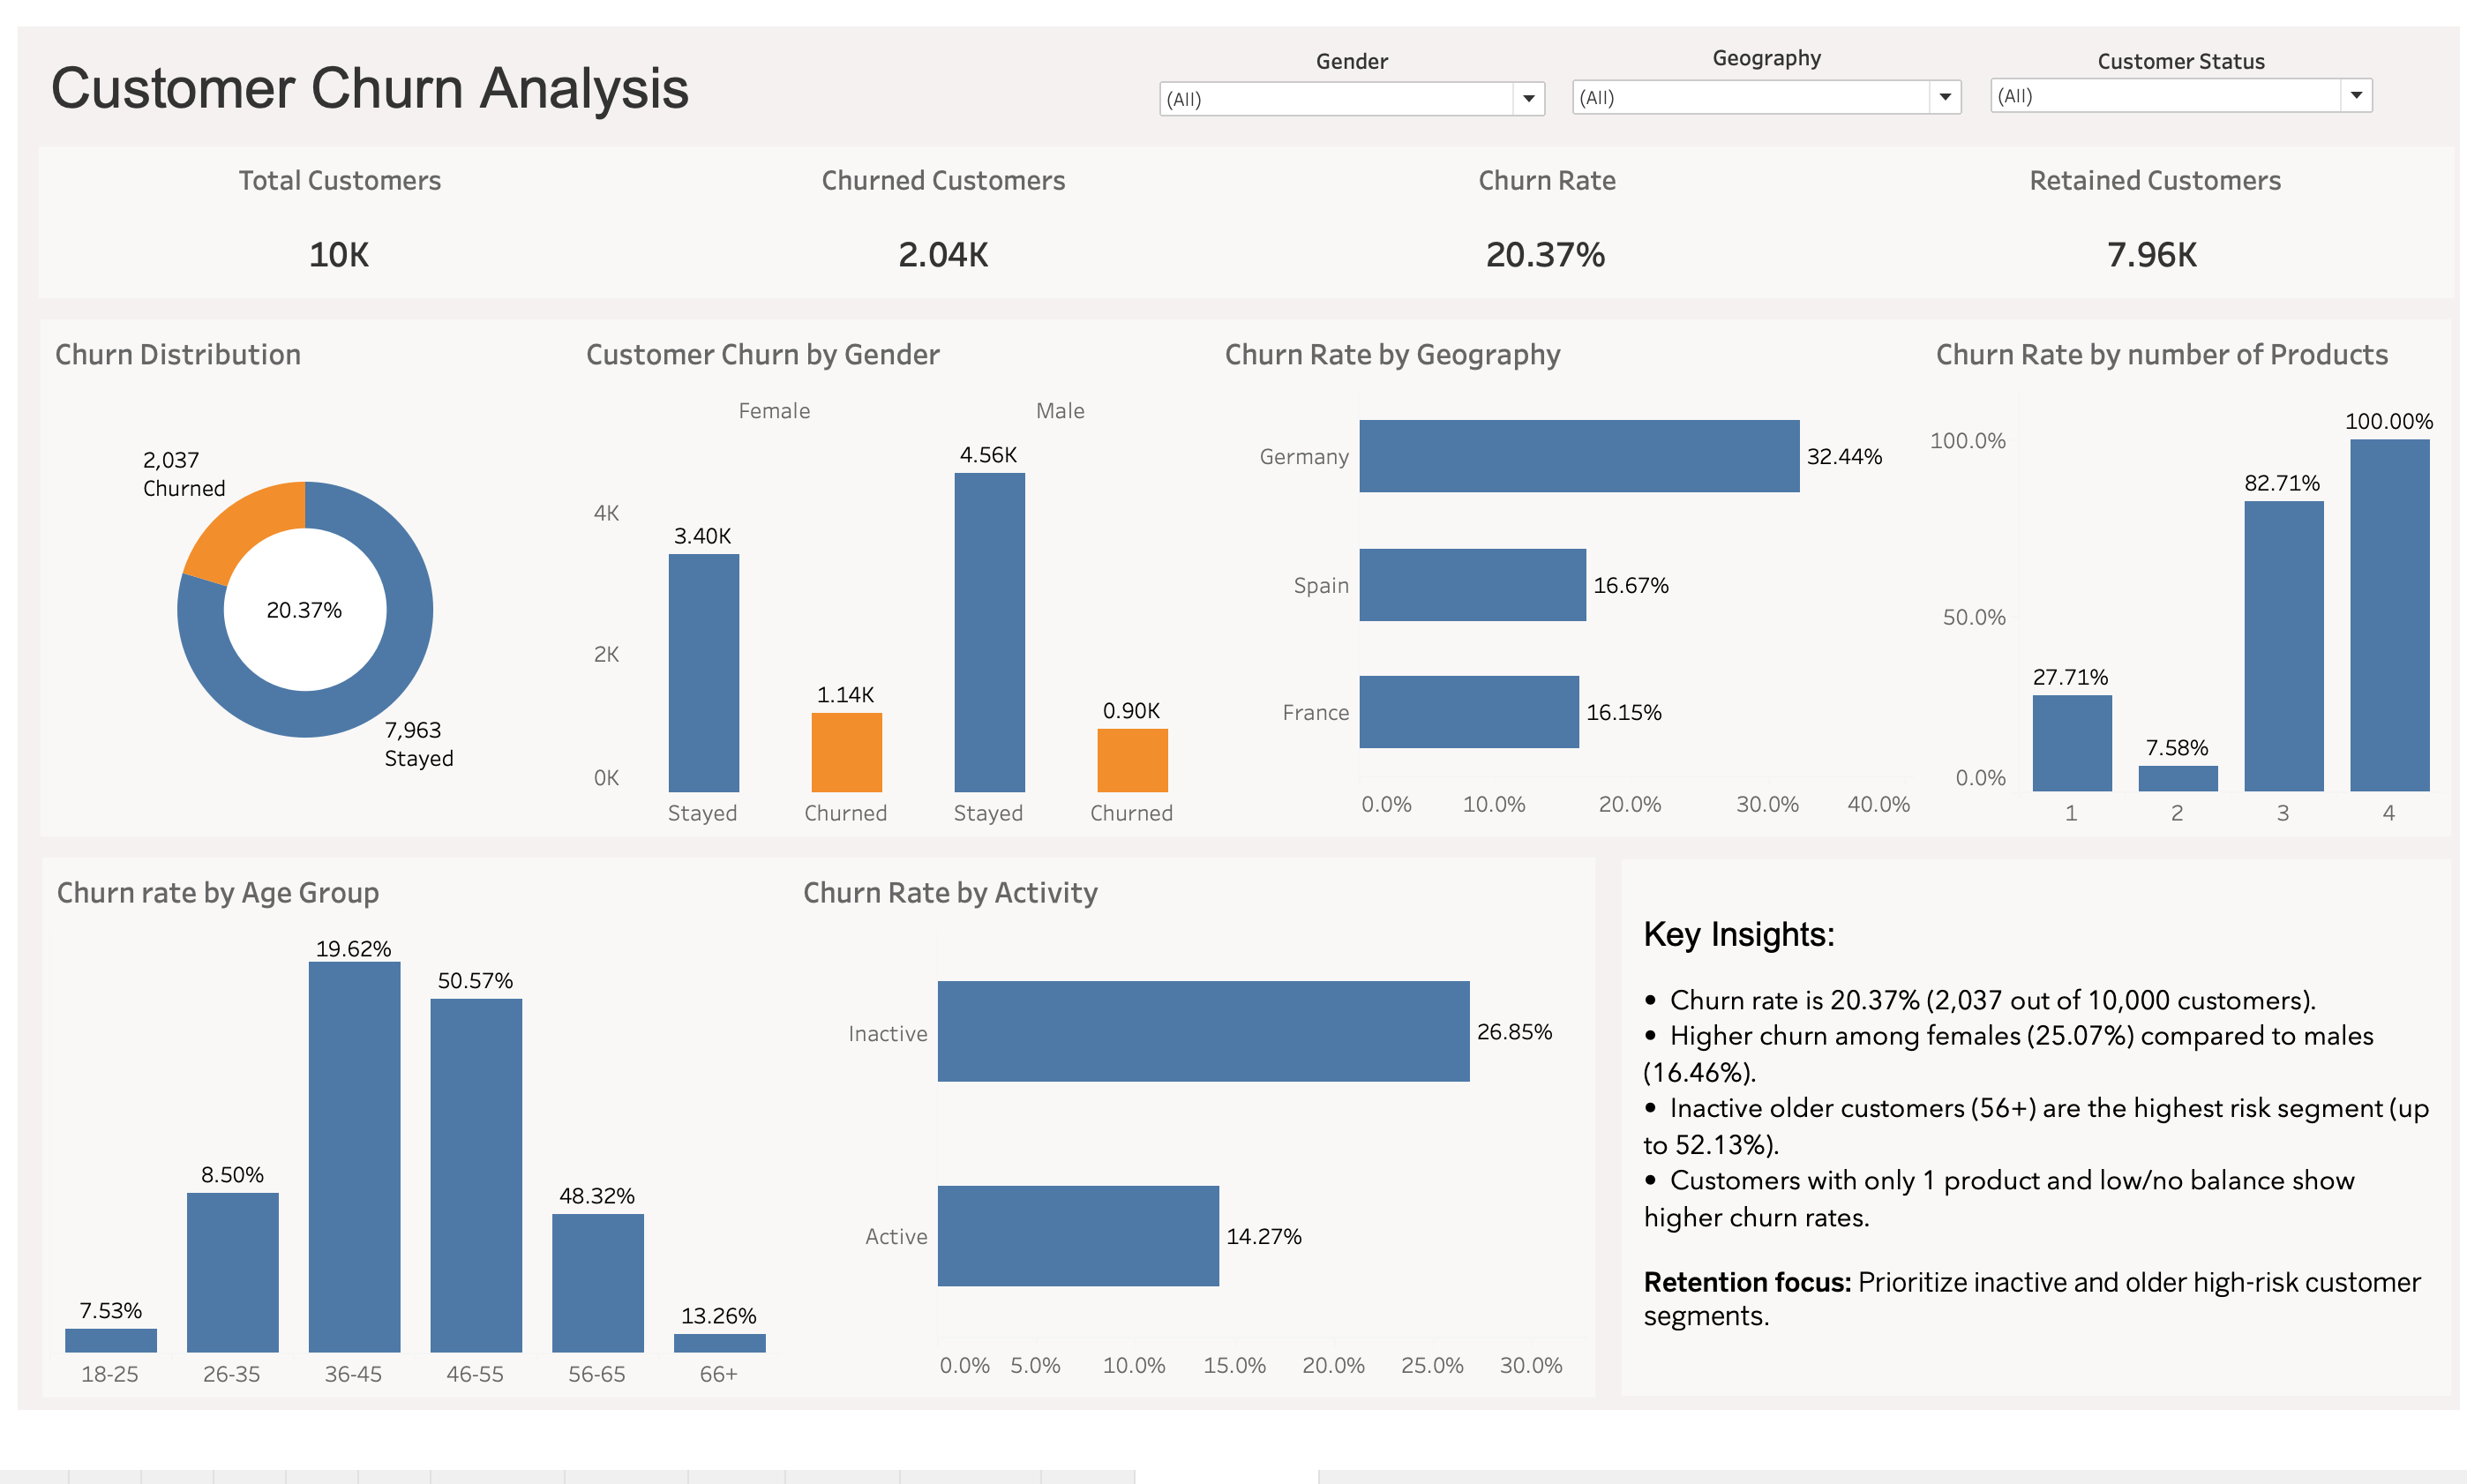

The dashboard page shown, as its layout file describes it:
{"tool":"tableau","page":{"name":"Dashboard 1","canvas":[1400,800],"ordinal":0},"visuals":[{"type":"filter","title":"Geography","param":"[federated.1btkxv403boihi1gx4xa40jh4lkf].[none:Geography:nk]","box":[886,17,227,45]},{"type":"filter","title":"gender","param":"[federated.1btkxv403boihi1gx4xa40jh4lkf].[none:Gender:nk]","box":[652,19,225,43]},{"type":"filter","title":"activity","param":"[federated.1btkxv403boihi1gx4xa40jh4lkf].[none:Calculation_0952427648815113:nk]","box":[1123,19,223,39]},{"type":"worksheet","title":"KPI1","mark":"Automatic","box":[20,76.4,342.2,86.2]},{"type":"worksheet","title":"KPI2","mark":"Automatic","box":[362.2,76.4,342.2,86.2]},{"type":"worksheet","title":"KPI4","mark":"Automatic","box":[704.5,76.4,342.2,86.2]},{"type":"worksheet","title":"KPI3","mark":"Automatic","box":[1046.7,76.4,342.2,86.2]},{"type":"worksheet","title":"distribution","mark":"Pie","rows":["Calculation_0952427653390358","Calculation_0952427653398552"],"box":[21,174,301,293]},{"type":"worksheet","title":"gender","mark":"Bar","rows":["CustomerId"],"cols":["Gender","Exited"],"box":[322,174,362,293]},{"type":"worksheet","title":"Geography","mark":"Automatic","rows":["Geography"],"cols":["Calculation_0952427645005825"],"box":[684,174,403,293]},{"type":"worksheet","title":"products","mark":"Bar","rows":["Calculation_0952427645005825"],"cols":["NumOfProducts"],"box":[1087,174,300,293]},{"type":"worksheet","title":"age group","mark":"Automatic","rows":["Exited"],"cols":["Calculation_0952427648221192"],"box":[22,479,423,306]},{"type":"worksheet","title":"activity","mark":"Automatic","rows":["Calculation_0952427648815113"],"cols":["Calculation_0952427645005825"],"box":[445,479,457,306]},{"type":"text","box":[917,480,470,304]}]}

Visuals, with their boxes on the page's 1400x800 design canvas (x1, y1, x2, y2). These are canvas units, not pixel positions in the 2467x1484 screenshot, which may show the page scaled, cropped or inside an application window:
"Geography" filter: (886,17,1113,62)
"gender" filter: (652,19,877,62)
"activity" filter: (1123,19,1346,58)
"KPI1" worksheet: (20,76,362,163)
"KPI2" worksheet: (362,76,704,163)
"KPI4" worksheet: (704,76,1047,163)
"KPI3" worksheet: (1047,76,1389,163)
"distribution" worksheet (Pie marks): (21,174,322,467)
"gender" worksheet (Bar marks): (322,174,684,467)
"Geography" worksheet: (684,174,1087,467)
"products" worksheet (Bar marks): (1087,174,1387,467)
"age group" worksheet: (22,479,445,785)
"activity" worksheet: (445,479,902,785)
text: (917,480,1387,784)
